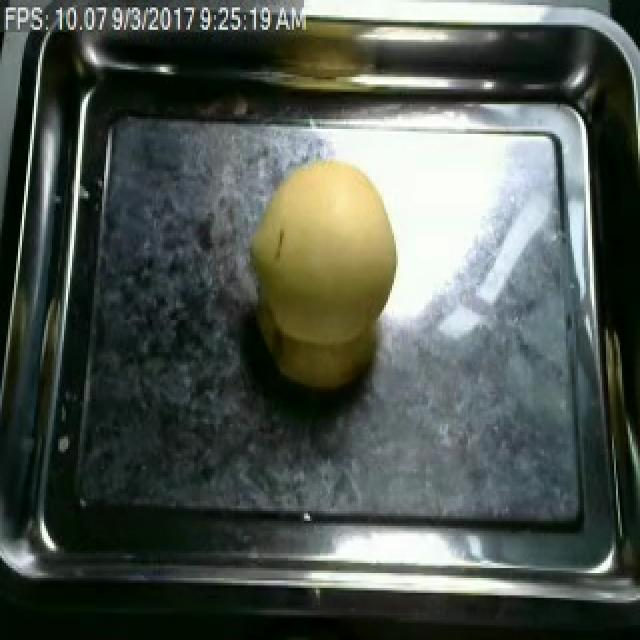Fruit: (230, 144, 414, 397)
